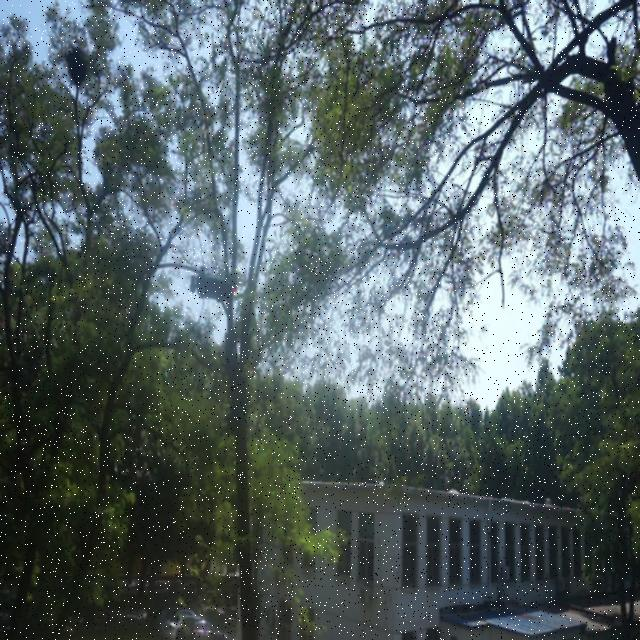UAV: (190, 267, 237, 303)
